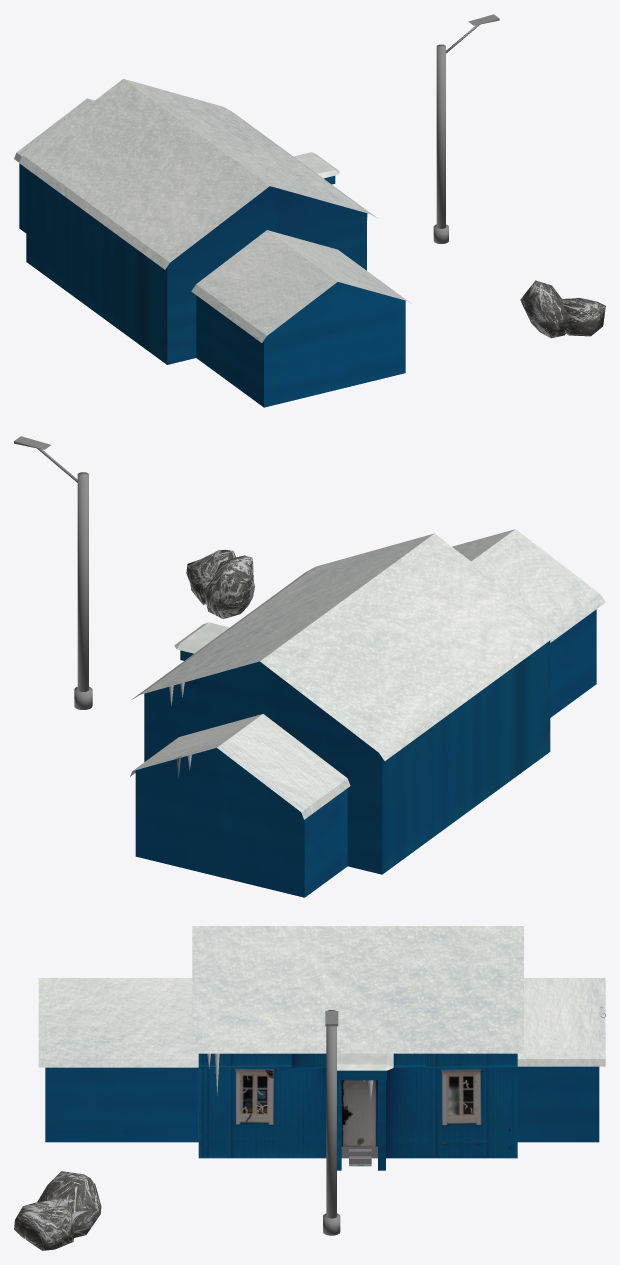
Rendered from escenario midchalet.glb.
The picture shows the model from 3 angles, top to bottom: view 1: azimuth 30°, elevation 25°; view 2: azimuth 150°, elevation 25°; view 3: azimuth 270°, elevation 25°; orthographic projection. The views are drawn at different scales.
Parts seen in each view (by area): view 1: Cuerpo Secundario 1.col.004, Piedra 3.col.004, Base Luz.col.004; view 2: Cuerpo Secundario 1.col.004, Piedra 3.col.004, Base Luz.col.004; view 3: Cuerpo Secundario 1.col.004, Piedra 3.col.004, Base Luz.col.004.
Boxes of the visible parts, x1=… form: Cuerpo Secundario 1.col.004: x1=14, y1=79, x2=411, y2=407; Piedra 3.col.004: x1=520, y1=280, x2=605, y2=338; Base Luz.col.004: x1=433, y1=14, x2=499, y2=243; Cuerpo Secundario 1.col.004: x1=130, y1=529, x2=605, y2=897; Piedra 3.col.004: x1=186, y1=549, x2=254, y2=618; Base Luz.col.004: x1=14, y1=436, x2=92, y2=709; Cuerpo Secundario 1.col.004: x1=38, y1=926, x2=605, y2=1170; Piedra 3.col.004: x1=14, y1=1171, x2=101, y2=1250; Base Luz.col.004: x1=323, y1=1010, x2=340, y2=1235.
Size of what is drawn, in the model's own units: 3.94 by 2.05 by 4.54.
5 materials, 4 textured.
